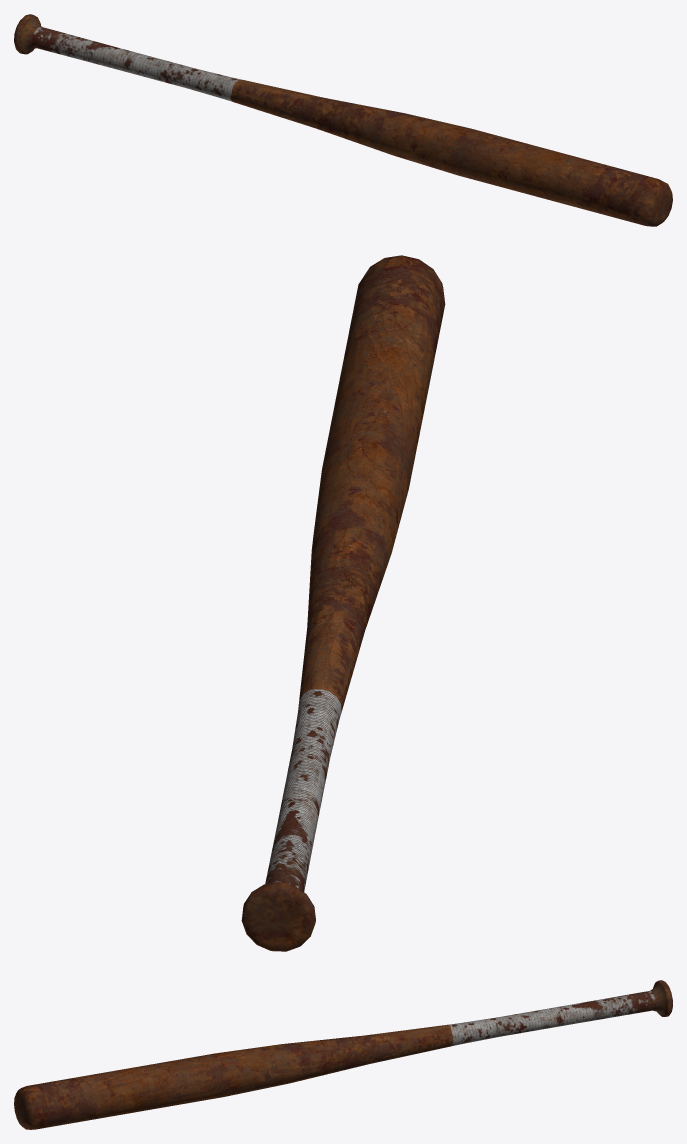
Rendered from Anim_idle_bate_objetos.0016.obj.
The picture shows the model from 3 angles, top to bottom: view 1: azimuth 30°, elevation 25°; view 2: azimuth 150°, elevation 25°; view 3: azimuth 270°, elevation 25°; orthographic projection. The views are drawn at different scales.
Parts seen in each view (by area): view 1: Bate1; view 2: Bate1; view 3: Bate1.
Boxes of the visible parts, <box> form: Bate1: <box>14,14,672,226</box>; Bate1: <box>241,255,445,951</box>; Bate1: <box>14,980,672,1129</box>.
Size of the model in its own units: 2.5 by 0.4309 by 4.94.
